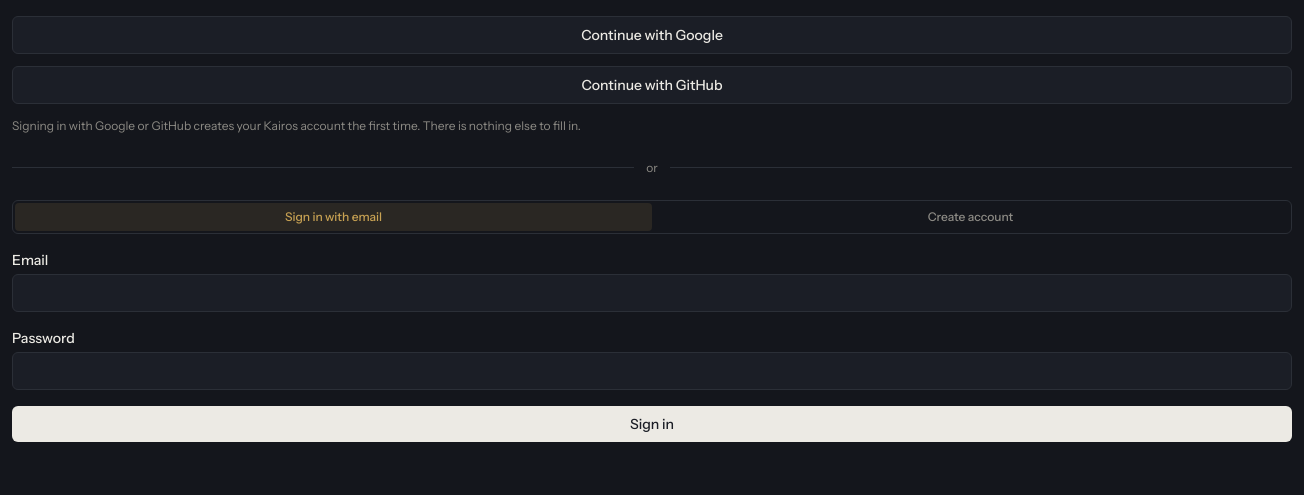
Test: email and password › says the same thing for a wrong password as for an unknown address
Type "founder@example.com" into the field labelled "Email" at (652, 292), box [12,274,1292,312]
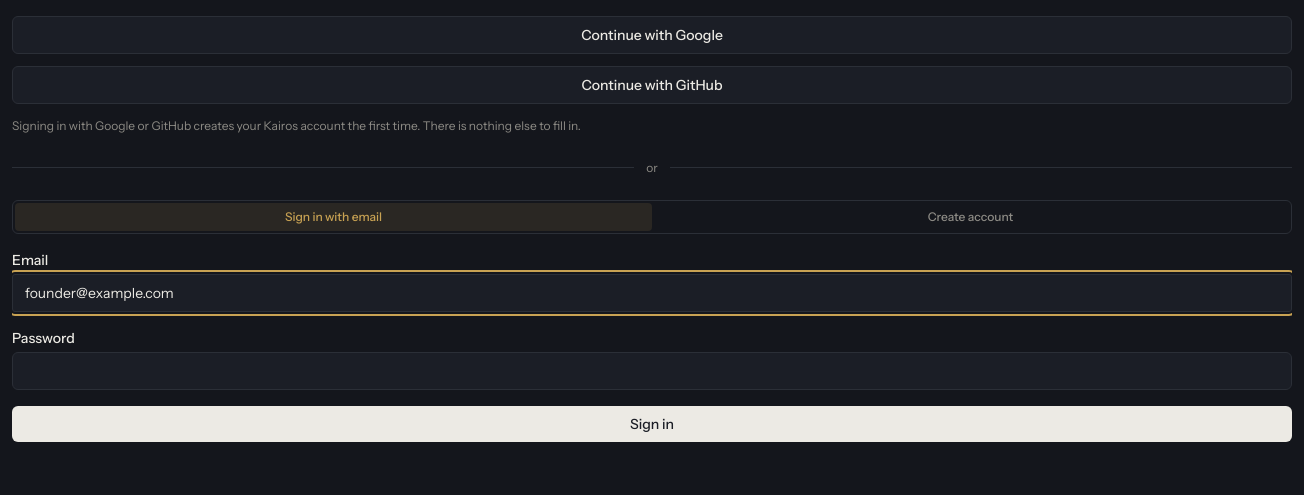
Type "wrong" into the password field labelled "Password" at (652, 370), box [12,352,1292,390]
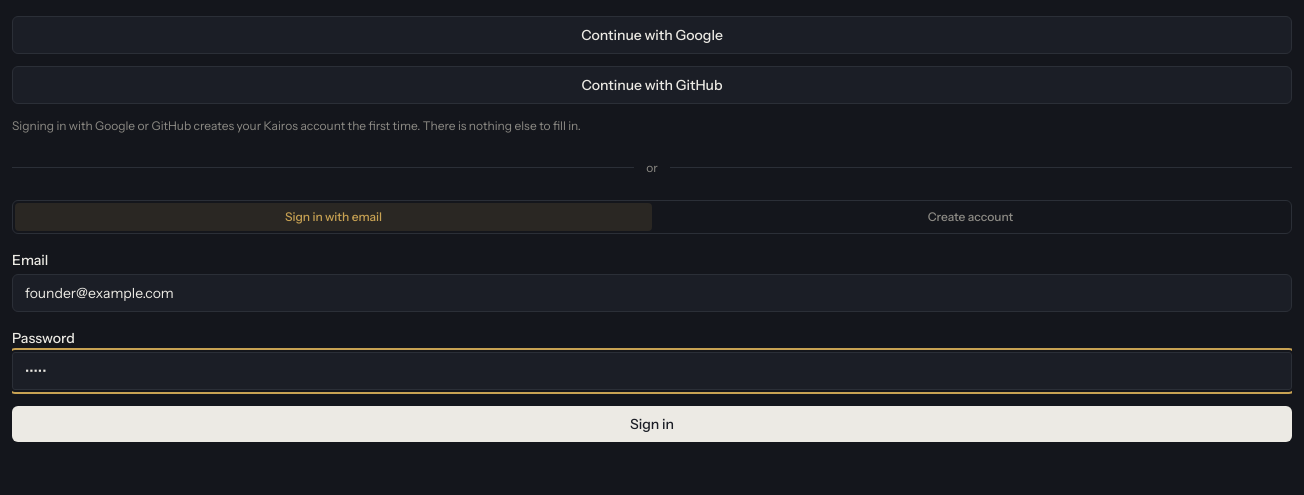
Click the button "Sign in" at (652, 424), box [12,406,1292,442]
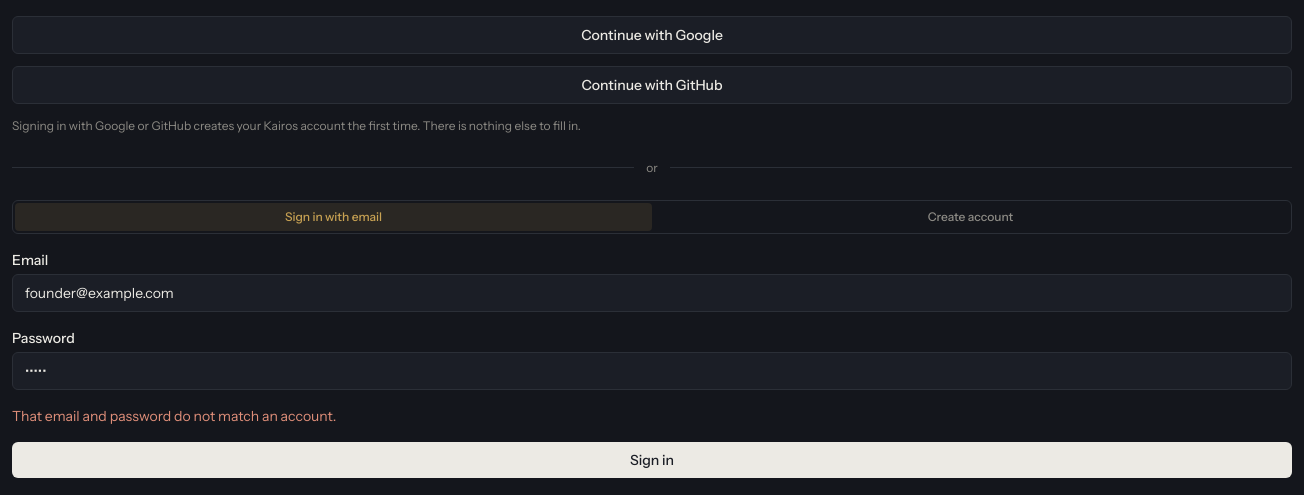
Check: the message reads "That email and password do not match an account.", box [12,406,336,424]
